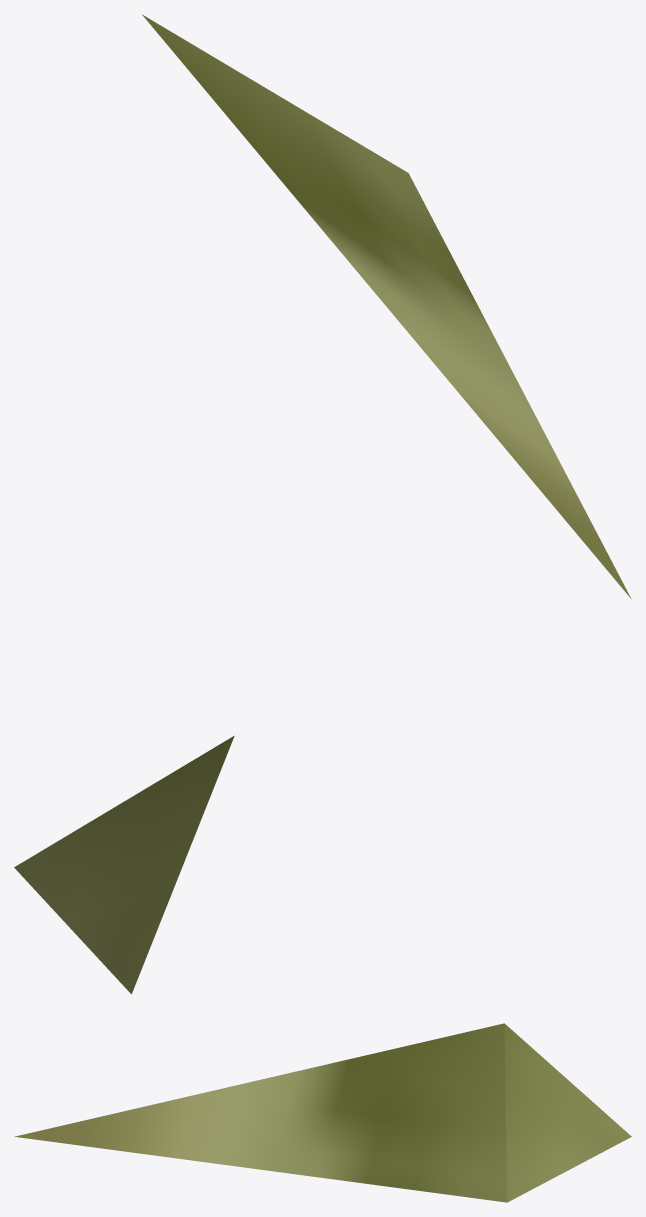
The picture shows the model from 3 angles, top to bottom: view 1: azimuth 30°, elevation 25°; view 2: azimuth 150°, elevation 25°; view 3: azimuth 270°, elevation 25°; orthographic projection. The views are drawn at different scales.
Bounding box in the file's own units: 0.0355 × 0.0285 × 0.1409.
Materials: 1 (1 with a texture image).
